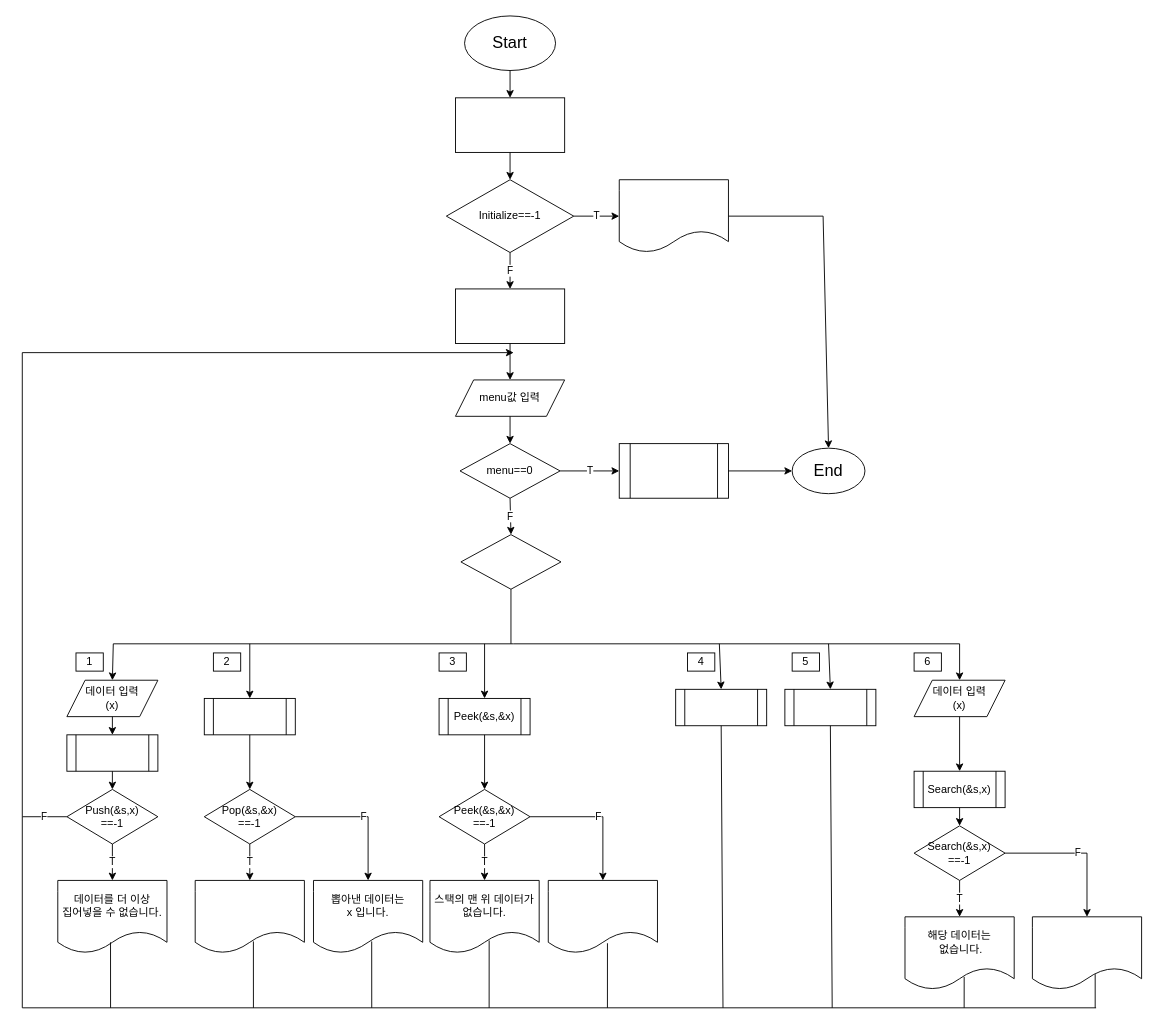
Image size: 1158x1025. Some labels were removed from this diagram. The centre of each missing label's shape, as x and y in pixels:
Clear(&s): the point at 830,707
int menu,x 선언: the point at 510,316
IntStack구조체 생성(s): the point at 510,124
menu: the point at 510,561
Pop(&s,&x): the point at 249,716
Print(&s): the point at 721,707
Push(&s,x): the point at 112,752
Terminate(&s): the point at 673,470
x는 s[data]에 있습니다: the point at 1086,953
뽑아낼 데이터가 없습니다.: the point at 249,916
스택생성에 실패하였습니다.: the point at 673,216
스택의 맨 위 데이터는 x 입니다.: the point at 602,916
